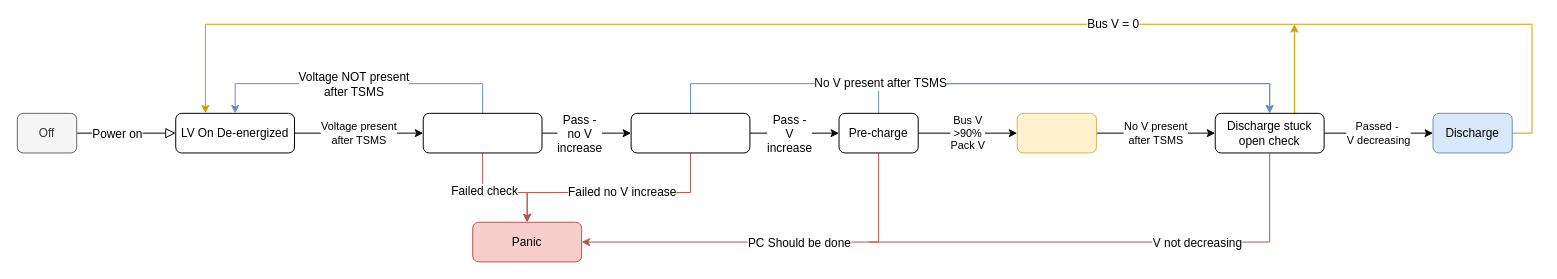
The diagram is 1557 pixels wide and 279 high, and some of its shapes have lost their labels. Here are the shapes that lost their labels. From the top down, the centre of each, then its label:
point 482,132: Pre-charge starts close check
point 690,132: Pre-charge stuck open check
point 1056,132: Energized
